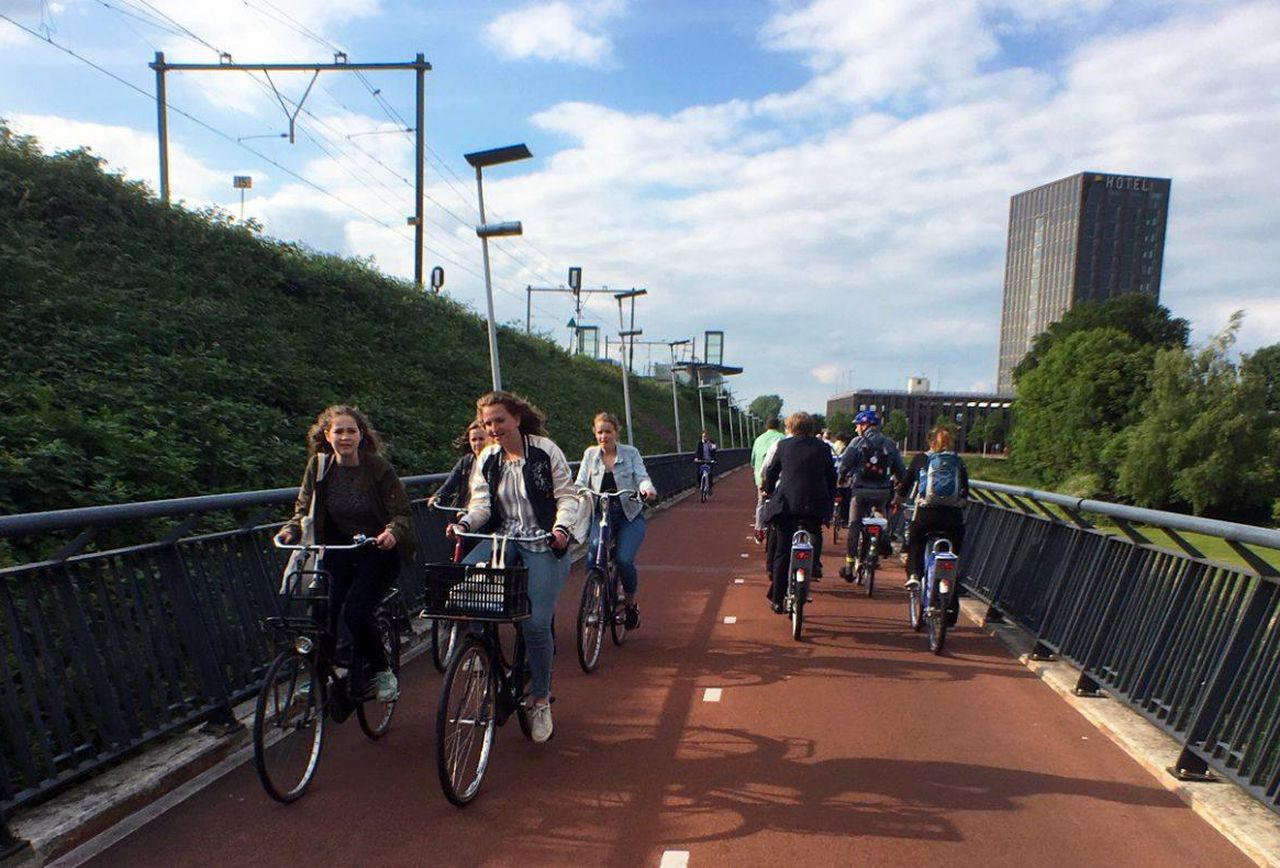cyclist_back: (755, 412, 831, 636), (902, 430, 970, 656), (836, 411, 891, 598)
cyclist_front: (255, 397, 419, 789), (450, 401, 568, 807), (574, 410, 654, 671), (694, 427, 719, 502)
